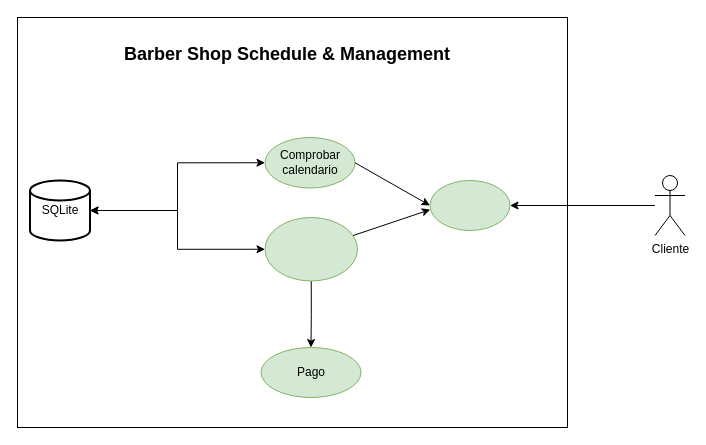
The diagram is 706 pixels wide and 445 high, and some of its shapes have lost their labels. Here are the shapes that lost their labels. From the top down, the centre of each, then its label:
(x=469, y=205): login
(x=311, y=248): Crear/consultar Cita
